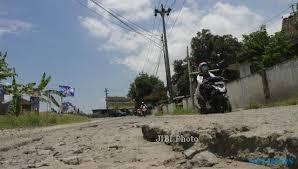Pothole: (131, 118, 298, 169)
